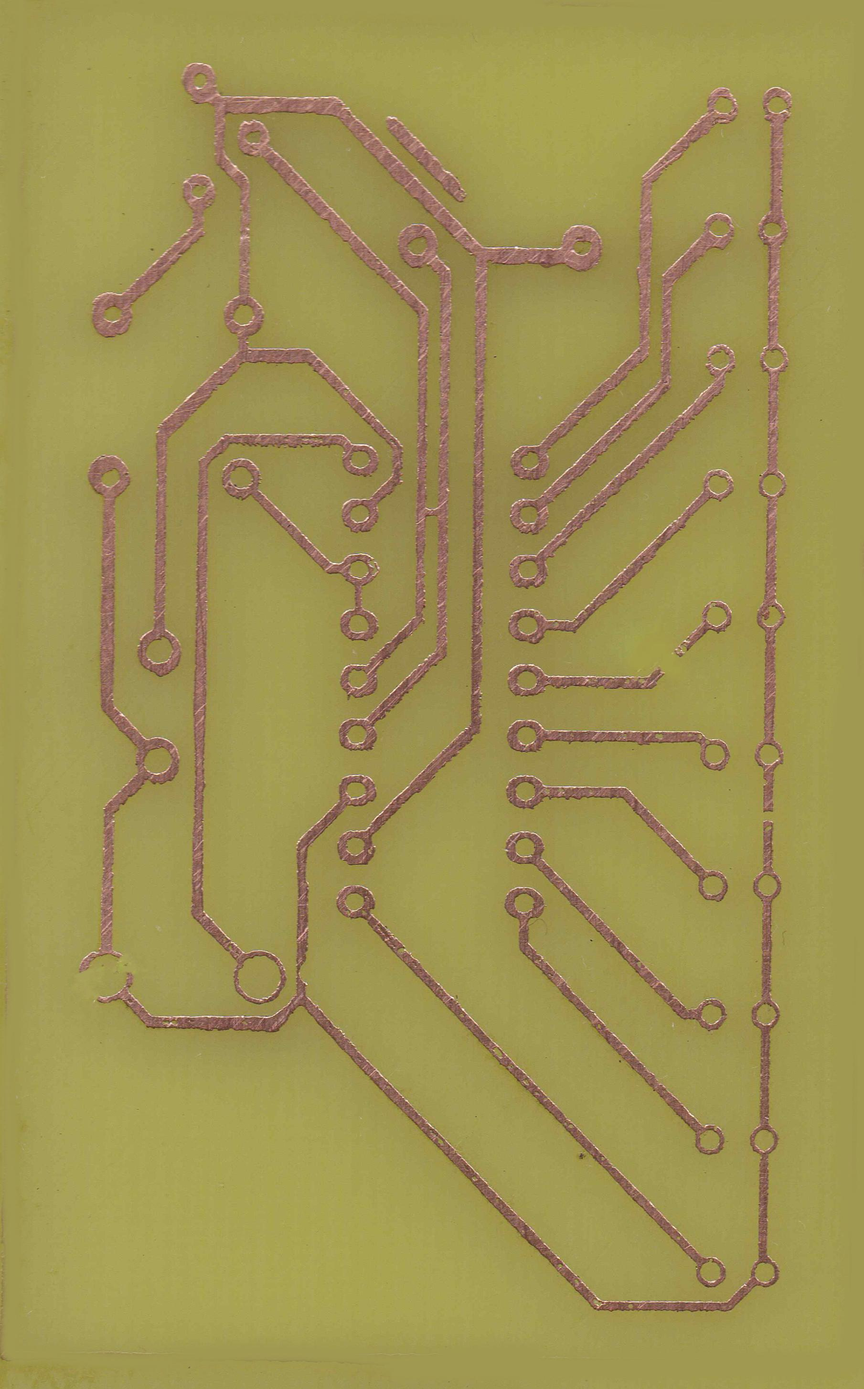missing_hole: (70, 948, 137, 1008)
mouse_bite: (291, 956, 312, 988)
open_circuit: (648, 640, 694, 677), (756, 798, 780, 833)
short: (412, 497, 450, 523)
spur: (537, 246, 560, 270)
spurious_copper: (379, 109, 469, 204)
